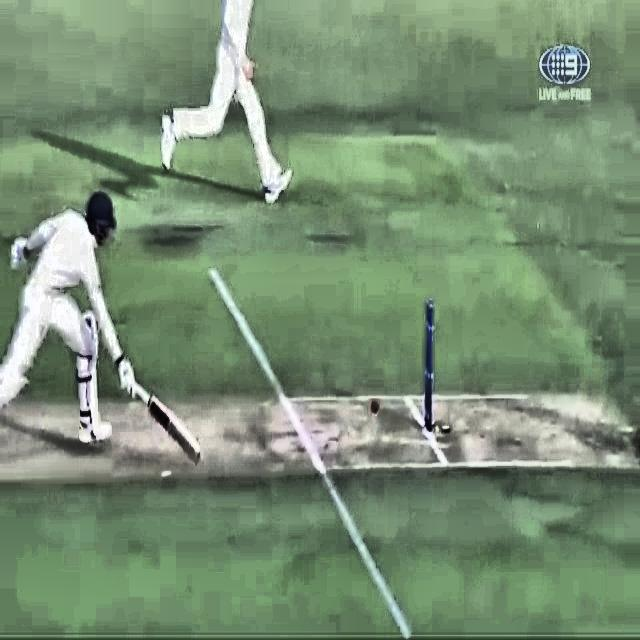Ball: (360, 395, 388, 417)
Bat: (124, 378, 209, 463)
Pitch_Line: (207, 264, 413, 640)
Undis_Wicket: (423, 298, 437, 435)
